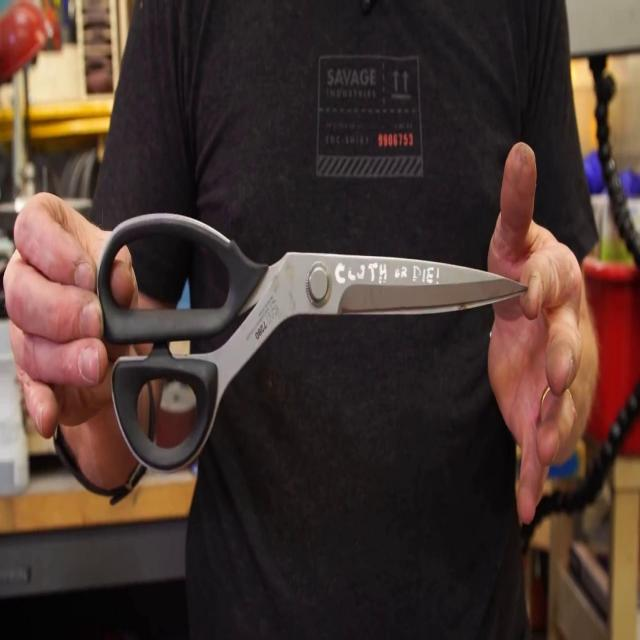scissor: (97, 214, 530, 472)
